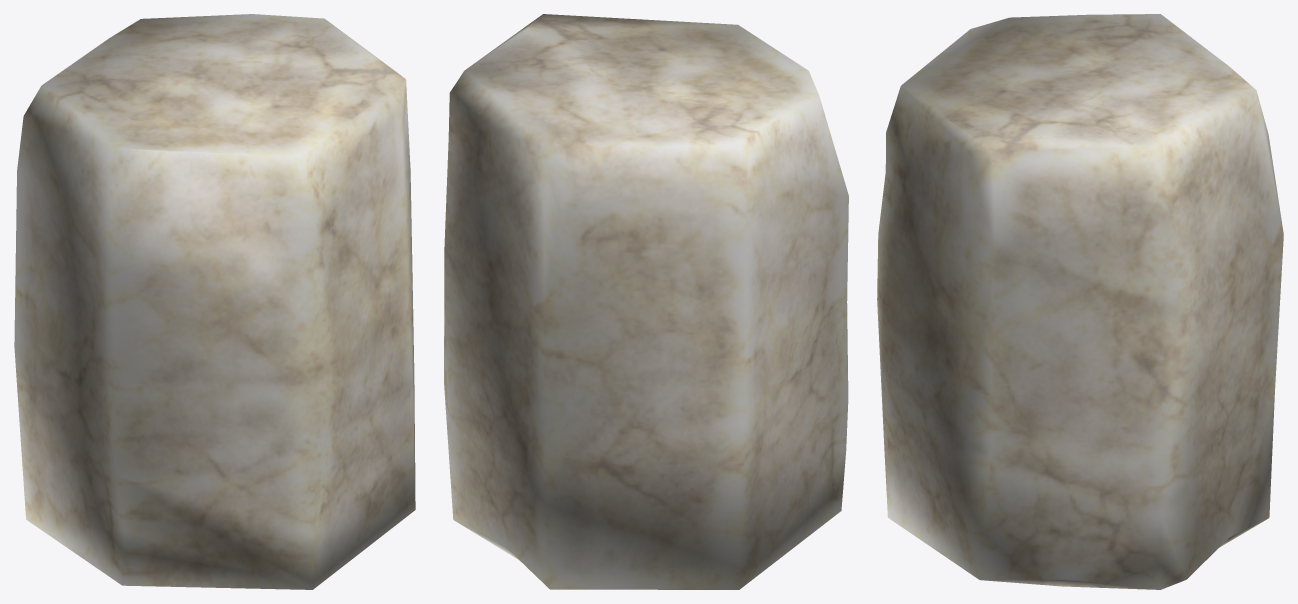
The model's file is SM_StoneRefined_2.fbx.
The picture shows the model from 3 angles, left to right: view 1: azimuth 30°, elevation 25°; view 2: azimuth 150°, elevation 25°; view 3: azimuth 270°, elevation 25°; orthographic projection.
Parts seen in each view (by area): view 1: SM_StoneRefined_2_LOD0; view 2: SM_StoneRefined_2_LOD0; view 3: SM_StoneRefined_2_LOD0.
Boxes of the visible parts, bbox=[...] form: SM_StoneRefined_2_LOD0: bbox=[14, 14, 415, 589]; SM_StoneRefined_2_LOD0: bbox=[444, 14, 848, 589]; SM_StoneRefined_2_LOD0: bbox=[877, 14, 1283, 589].
Size of what is drawn, in the model's own units: 0.2956 by 0.4048 by 0.3337.
